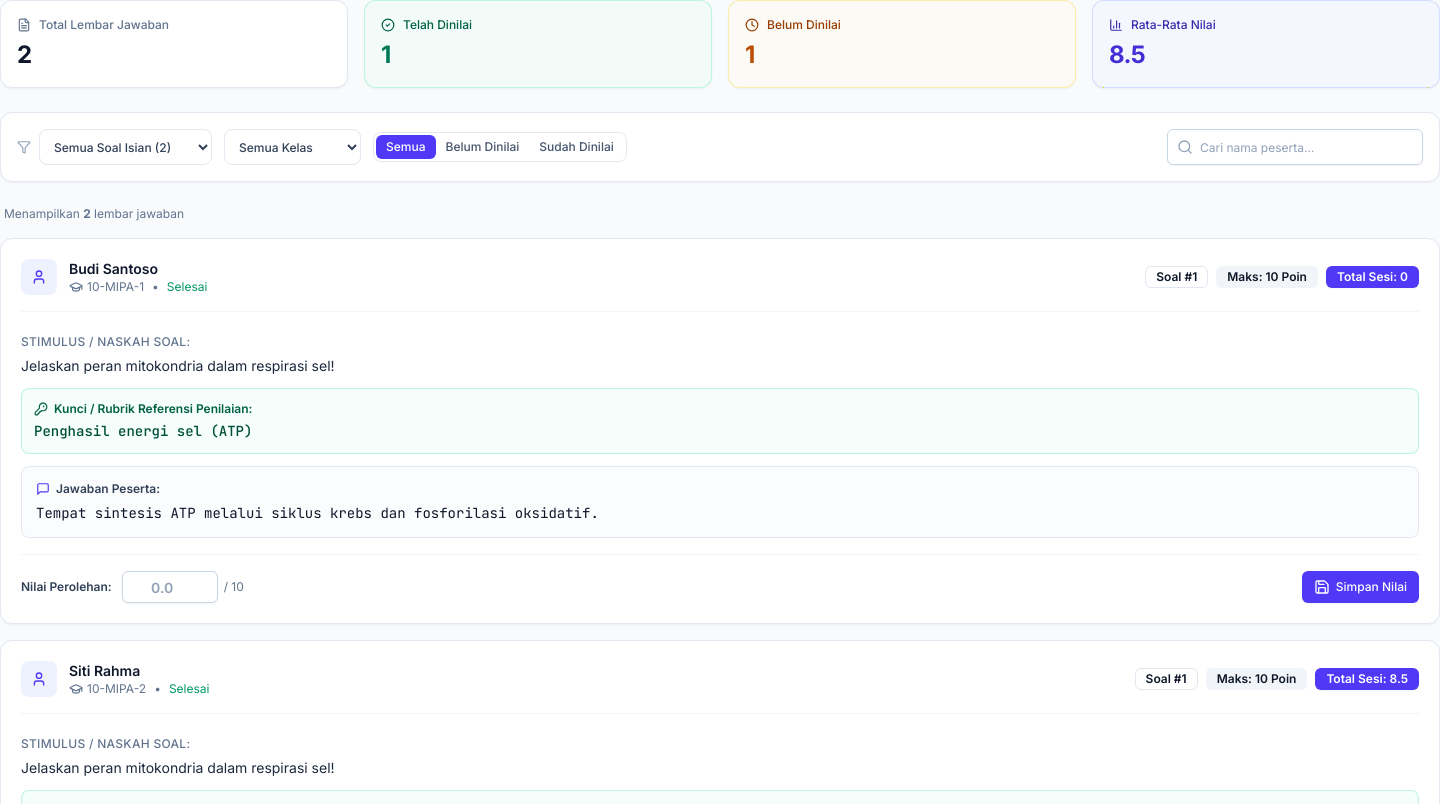
F5-02: Manual Evaluation Interface for Short Answer (ADM-EVAL-01) › Komponen ManualEvaluationView › memfilter daftar jawaban berdasarkan status penilaian (Sudah / Belum)
The image size is (1440, 804).
Step 1. Click the button "Belum Dinilai" → {"x": 482, "y": 147}, box [436,135,529,159]
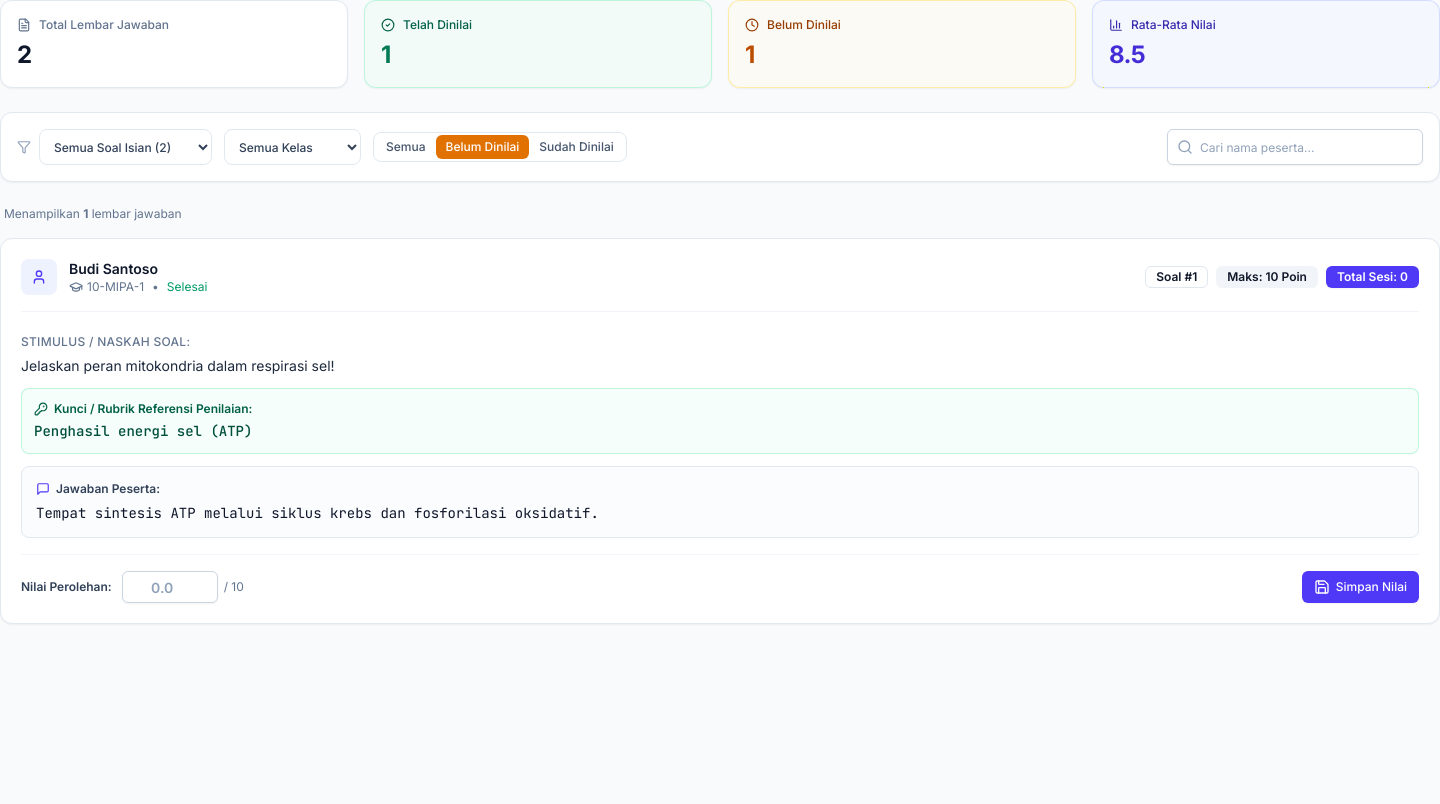
Expected: the heading "Budi Santoso" is shown, [69,260,158,277]
Result: the heading "Siti Rahma" is gone
Step 2. Click the button "Sudah Dinilai" → {"x": 576, "y": 147}, box [529,135,624,159]
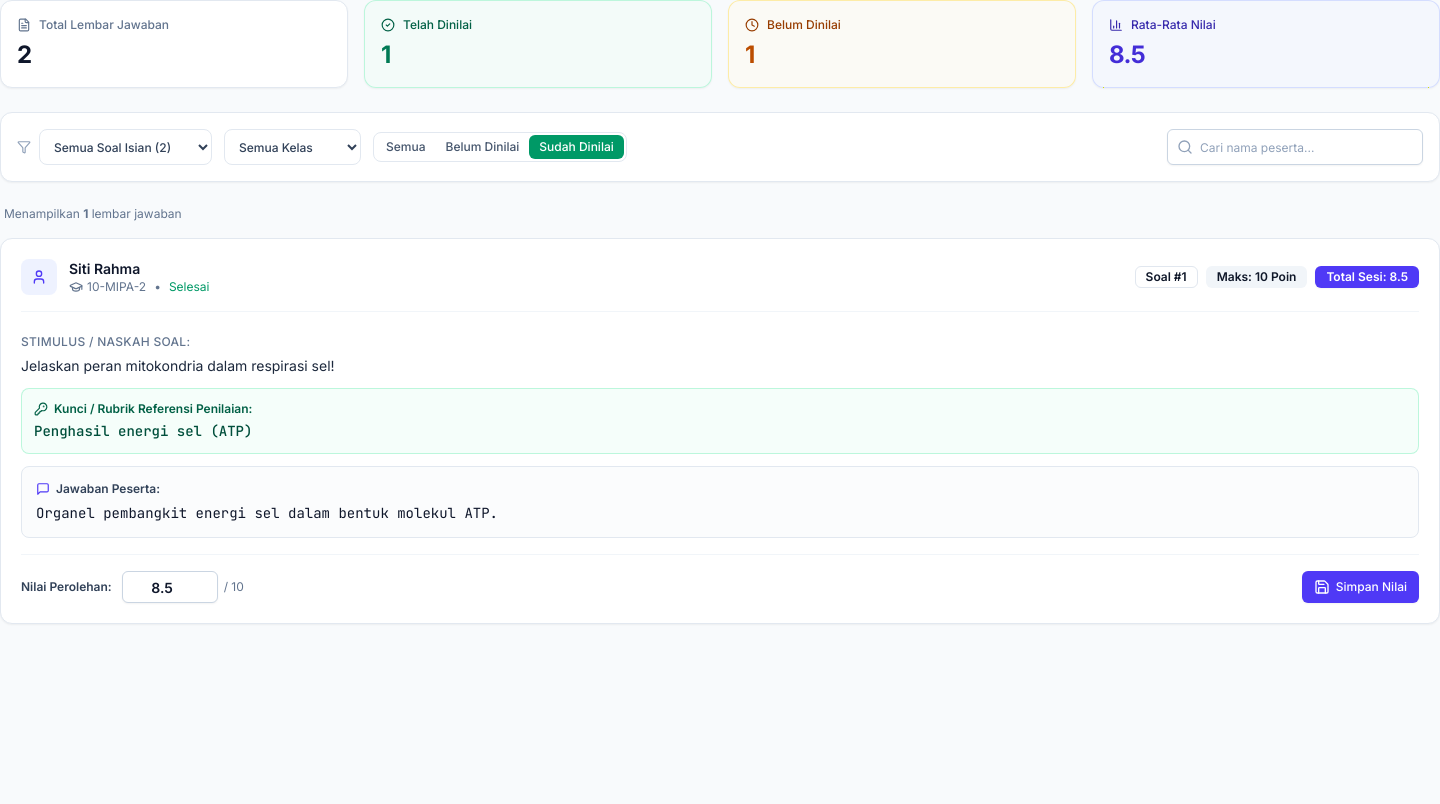
Result: the heading "Budi Santoso" is gone
Result: the heading "Siti Rahma" is shown at [69,260,140,277]
